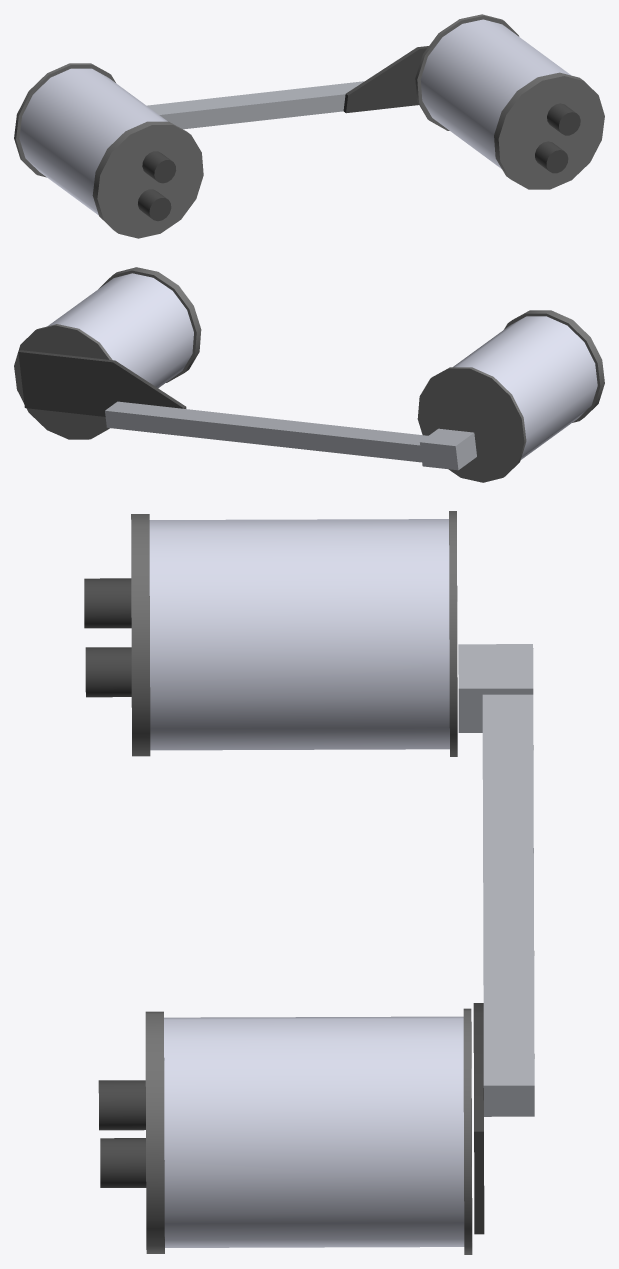
Rendered from SILVER2_Femur_Mirrored.fbx.
The picture shows the model from 3 angles, top to bottom: view 1: azimuth 30°, elevation 25°; view 2: azimuth 150°, elevation 25°; view 3: azimuth 270°, elevation 25°; orthographic projection. The views are drawn at different scales.
Visible parts, largest first — view 1: FemurCanister_Mirrored, TibiaCanister_Mirrored, Femur_Mirrored, TibiaCanisterButton_Mirrored, FemurCanisterButton_Mirrored; view 2: FemurCanister_Mirrored, Femur_Mirrored, TibiaCanister_Mirrored; view 3: TibiaCanister_Mirrored, FemurCanister_Mirrored, Femur_Mirrored, FemurCanisterButton_Mirrored, TibiaCanisterButton_Mirrored.
Part boxes in pixels (bbox=[...]): FemurCanister_Mirrored: bbox=[14, 63, 203, 238]; TibiaCanister_Mirrored: bbox=[415, 14, 604, 189]; Femur_Mirrored: bbox=[147, 46, 428, 129]; TibiaCanisterButton_Mirrored: bbox=[535, 141, 568, 173]; FemurCanisterButton_Mirrored: bbox=[138, 189, 171, 221]; FemurCanister_Mirrored: bbox=[417, 310, 604, 482]; Femur_Mirrored: bbox=[18, 350, 476, 470]; TibiaCanister_Mirrored: bbox=[14, 267, 201, 439]; TibiaCanister_Mirrored: bbox=[98, 1008, 472, 1254]; FemurCanister_Mirrored: bbox=[84, 511, 457, 756]; Femur_Mirrored: bbox=[458, 644, 534, 1234]; FemurCanisterButton_Mirrored: bbox=[85, 647, 131, 697]; TibiaCanisterButton_Mirrored: bbox=[100, 1138, 146, 1187].
Size of the model in its own units: 2.34 by 0.7295 by 0.9012.
Materials: 1 (1 with a texture image).
